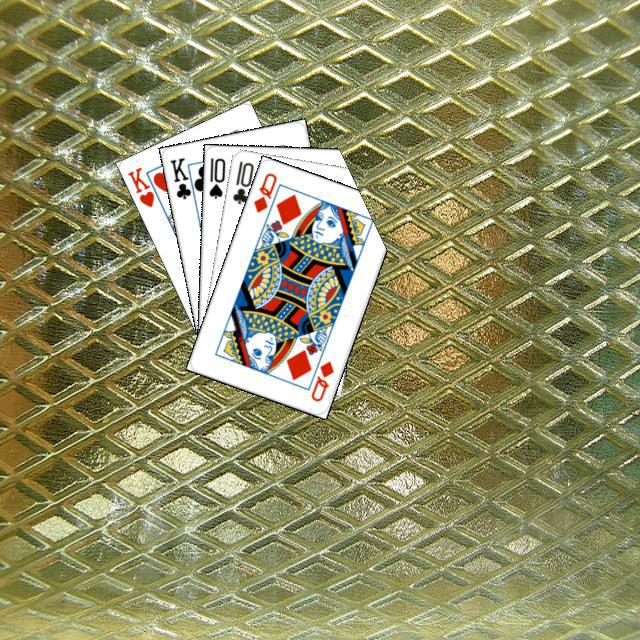10c: (228, 156, 256, 206)
10s: (204, 153, 227, 200)
Kc: (165, 152, 198, 203)
Kh: (123, 162, 165, 209)
Qd: (248, 168, 279, 214), (306, 356, 336, 403)
